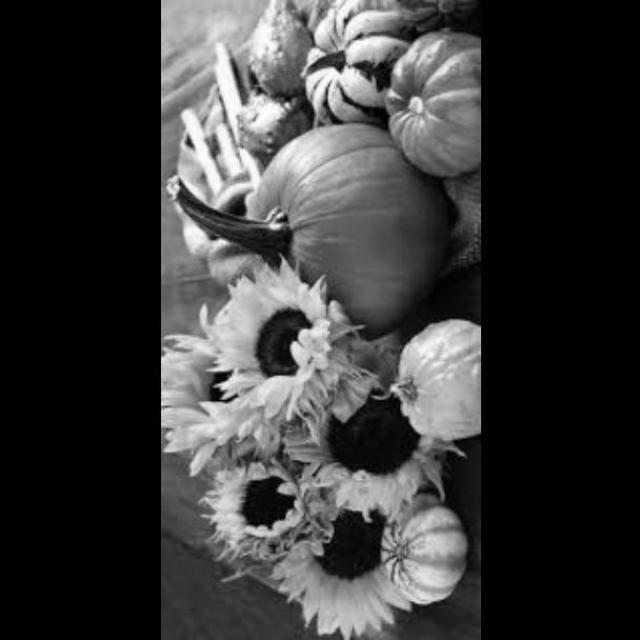pumpkin: (201, 116, 433, 336), (289, 1, 414, 130), (372, 25, 479, 175), (385, 309, 478, 438), (377, 482, 463, 609)
